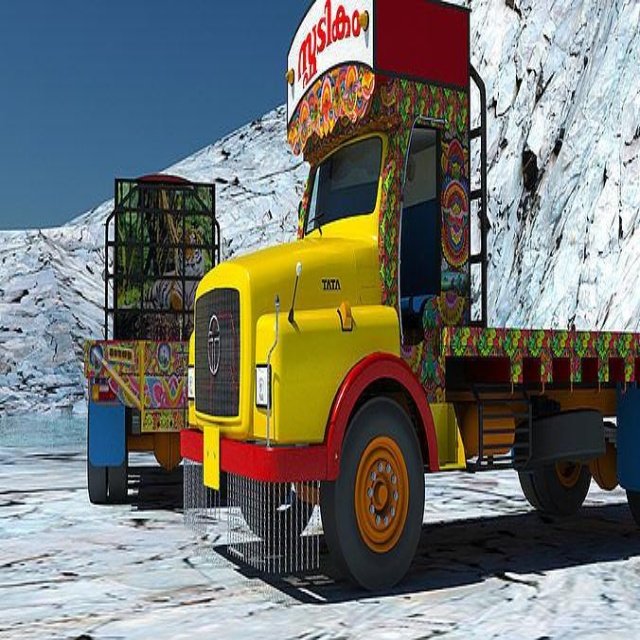Truck: (178, 2, 640, 595)
